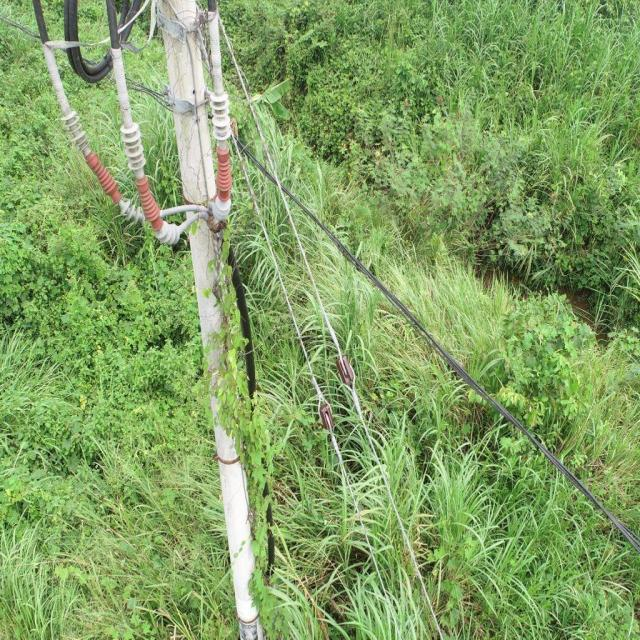critical vegetation: (182, 206, 286, 634)
